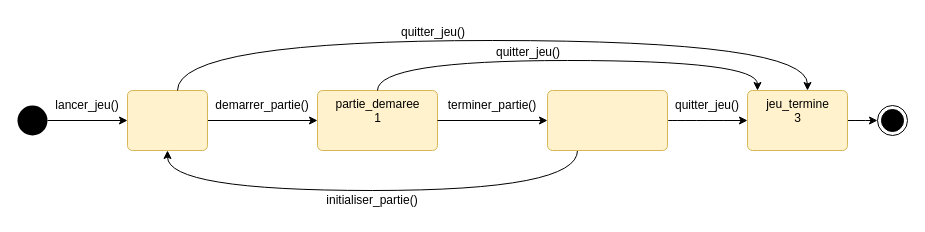
This 925x232 diagram has some shape labels left out. The centre of each missing label's shape, as x and y in pixels:
"attente 0" belongs at point (167, 120).
"partie_terminee 2" belongs at point (607, 120).
